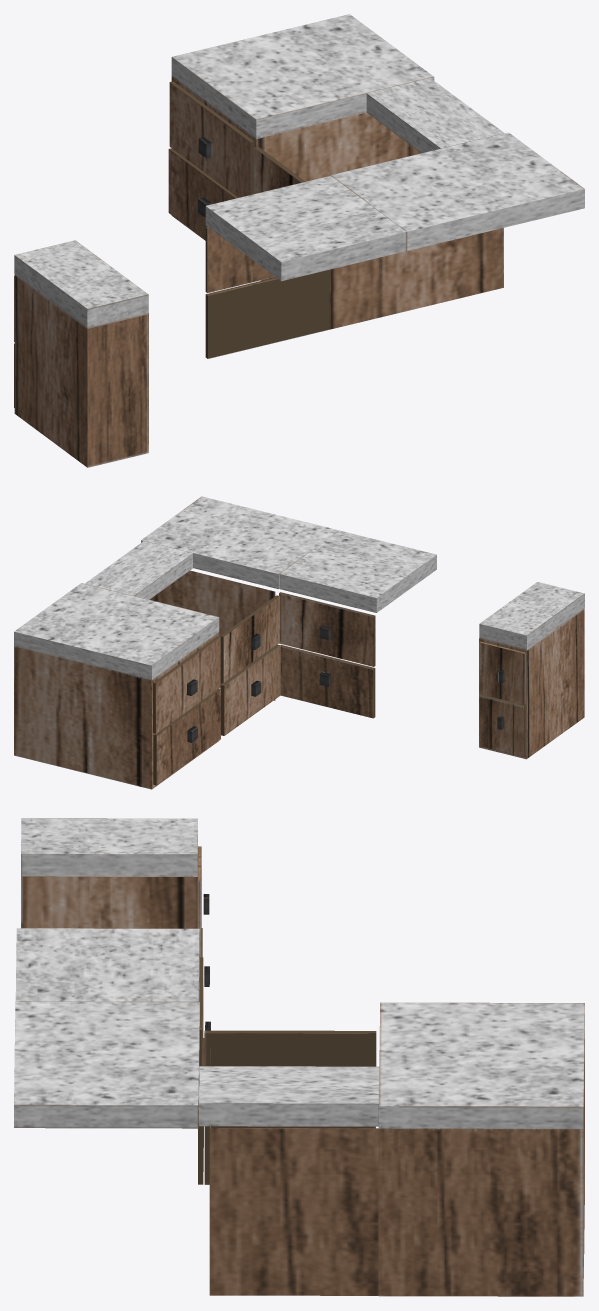
The model's file is int_111.fbx.
3 views of the same model, one above another, from view 1: azimuth 30°, elevation 25°; view 2: azimuth 150°, elevation 25°; view 3: azimuth 270°, elevation 25° (orthographic). The views are drawn at different scales.
Visible parts, largest first — view 1: cocina.001; view 2: cocina.001; view 3: cocina.001.
Part boxes in pixels (x1=…): cocina.001: x1=14, y1=14, x2=584, y2=467; cocina.001: x1=14, y1=496, x2=584, y2=789; cocina.001: x1=14, y1=818, x2=584, y2=1296.
Bounding box in the file's own units: 339 × 105 × 282.
1 material, 1 textured.
